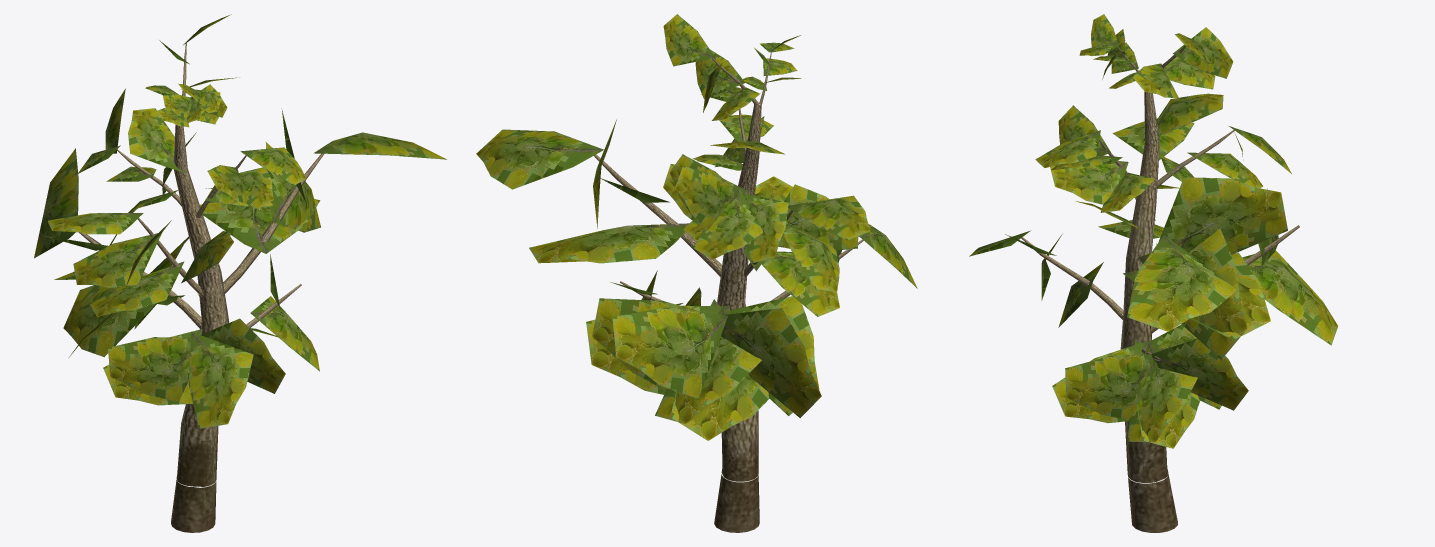
Rendered from oak-yellow.glb.
3 views of the same model, side by side, from view 1: azimuth 30°, elevation 25°; view 2: azimuth 150°, elevation 25°; view 3: azimuth 270°, elevation 25° (orthographic). The views are drawn at different scales.
Visible parts, largest first — view 1: high, low; view 2: high; view 3: high, low.
Boxes of the visible parts, <box> form: high: <box>34,14,446,532</box>; low: <box>55,63,280,532</box>; high: <box>476,14,917,532</box>; high: <box>969,14,1338,532</box>; low: <box>1046,47,1296,520</box>.
Size of the model in its own units: 2.78 by 3.4 by 2.84.
Materials: 3 (2 with a texture image).
